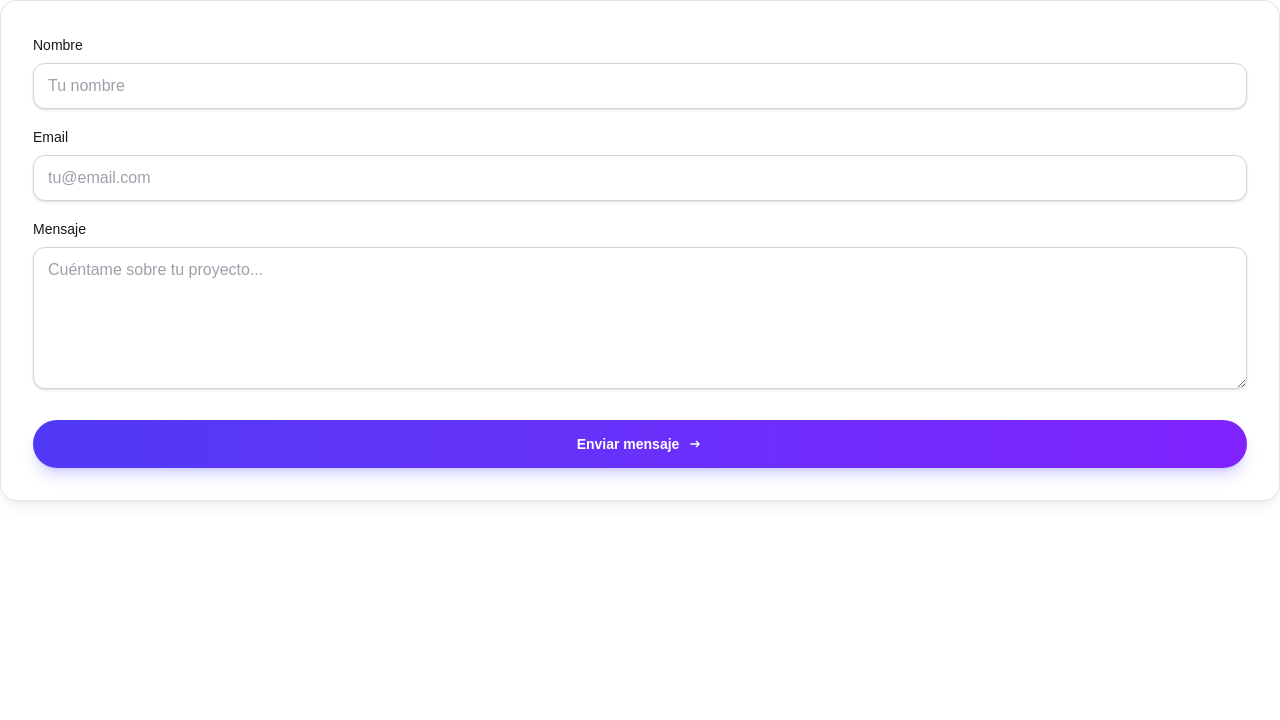
Scenario: ContactForm › muestra errores de validación al enviar vacío
Click the button "Enviar mensaje" at [640, 444], box top-left (33, 420), bottom-right (1247, 468)
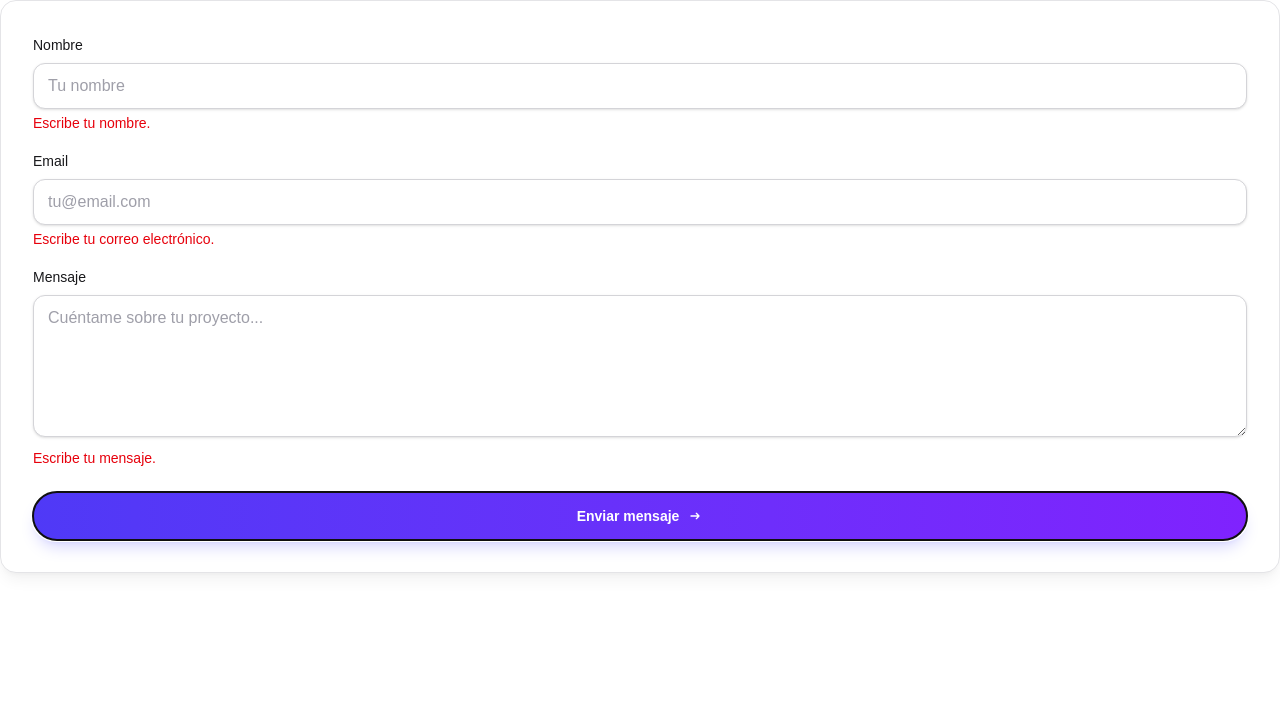
expect the text "Escribe tu nombre." is shown: met, box top-left (33, 115), bottom-right (150, 131)
expect the text "Escribe tu correo electrónico." is shown: met, box top-left (33, 231), bottom-right (214, 247)
expect the text "Escribe tu mensaje." is shown: met, box top-left (33, 450), bottom-right (156, 466)
